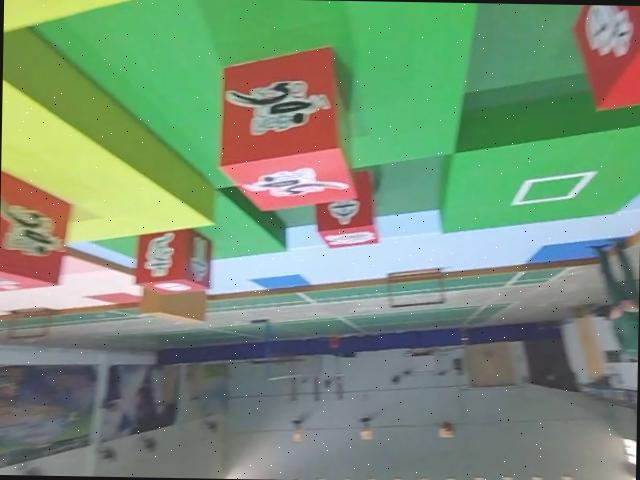R1: (217, 42, 366, 217), (0, 168, 74, 297)
R2 Fake: (133, 227, 215, 299)
R2 Real: (568, 4, 640, 116)
